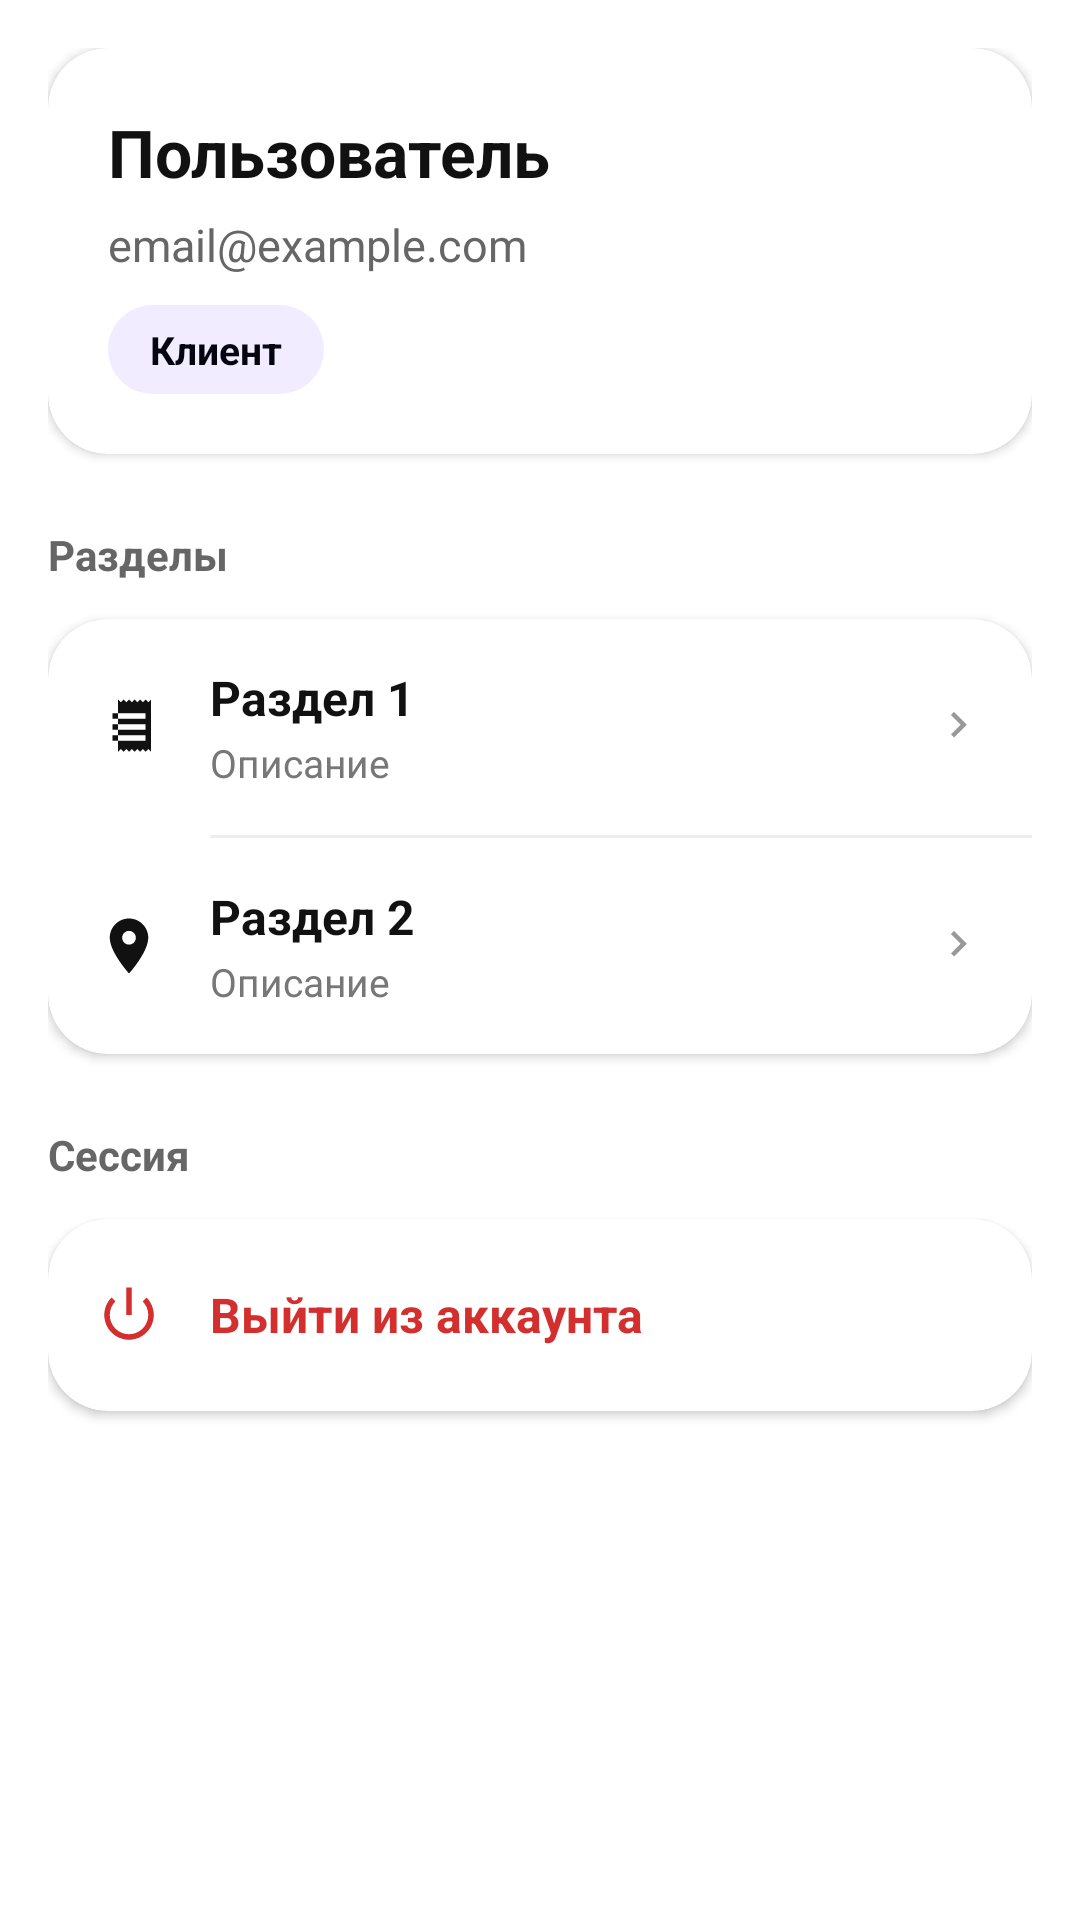

Locate icon controls on the screen. Image size 1080×1920, boxes as [x1,y1,x2,y2].
chevron right: [951,712,967,737], [951,931,967,956]
location: [109,918,149,973]
lock power off: [104,1287,154,1340]
receipt: [112,699,151,752]
